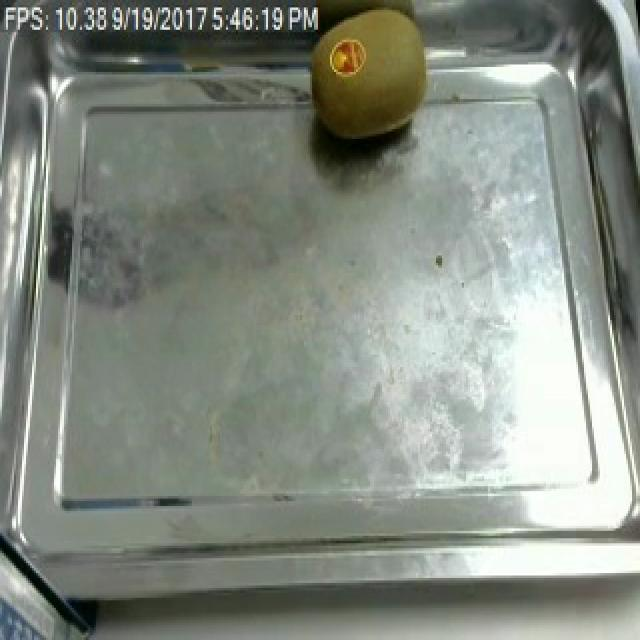Fruit: (312, 0, 442, 154)
